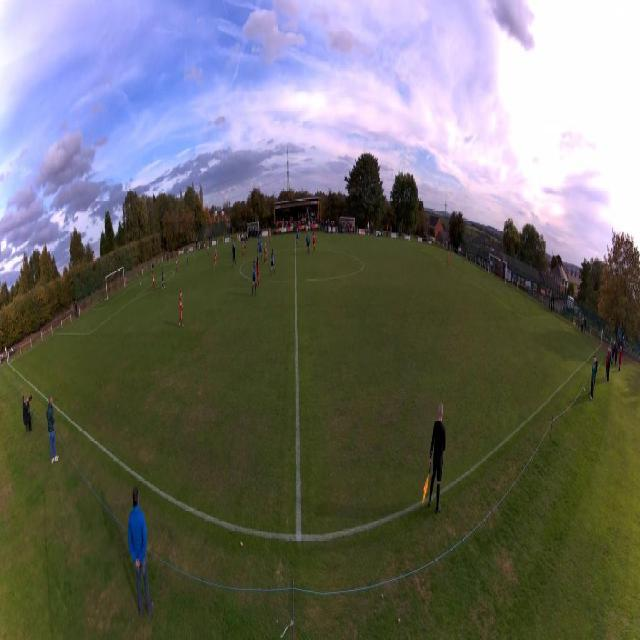ball: (140, 283, 141, 285)
player: (178, 290, 184, 329), (251, 259, 257, 297), (270, 249, 276, 276), (256, 257, 260, 288), (213, 248, 217, 272), (264, 242, 268, 266), (232, 244, 236, 268), (162, 268, 166, 290), (306, 233, 310, 255), (312, 231, 316, 251), (152, 271, 156, 290), (259, 237, 262, 261), (176, 255, 179, 274), (242, 237, 245, 256), (296, 228, 299, 247), (257, 235, 260, 254), (232, 240, 234, 261), (447, 251, 449, 269), (269, 227, 271, 244), (207, 241, 209, 257), (187, 250, 189, 266), (244, 238, 246, 249), (125, 277, 127, 288)
